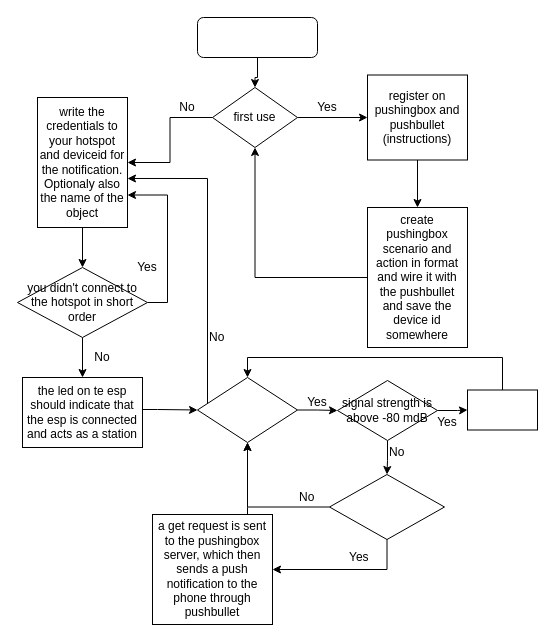
Some shapes in this 555 by 642 pixel diagram are drawn without their labels. The centre of each missing label's shape, as x and y in pixels:
"esp is connected to hotspot" goes at pixel 247 409.
"first time notification should be sent" goes at pixel 386 507.
"Start" goes at pixel 257 37.
"wait 10 seconds" goes at pixel 502 409.
